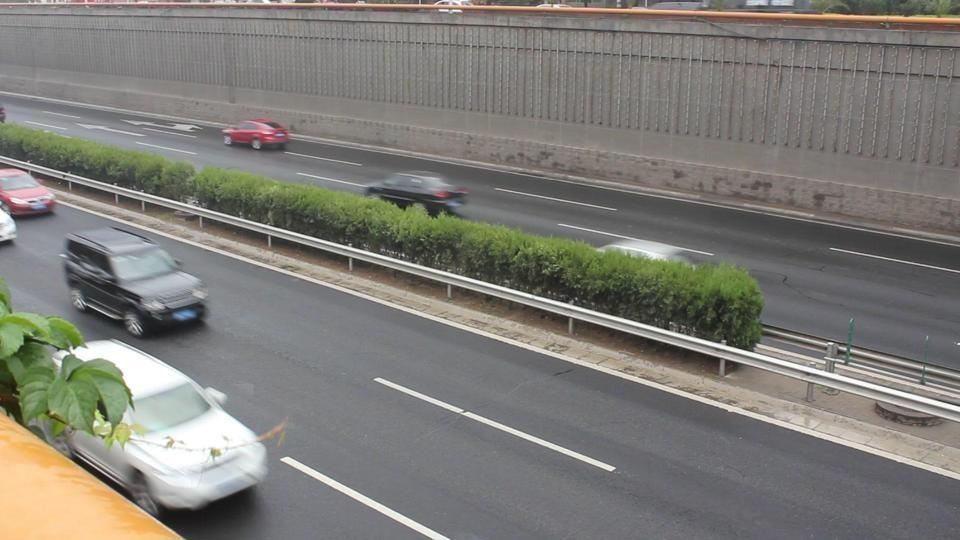car: (13, 334, 279, 517), (61, 224, 210, 337), (362, 173, 470, 218), (0, 167, 57, 217), (220, 118, 291, 150), (0, 202, 18, 246)
